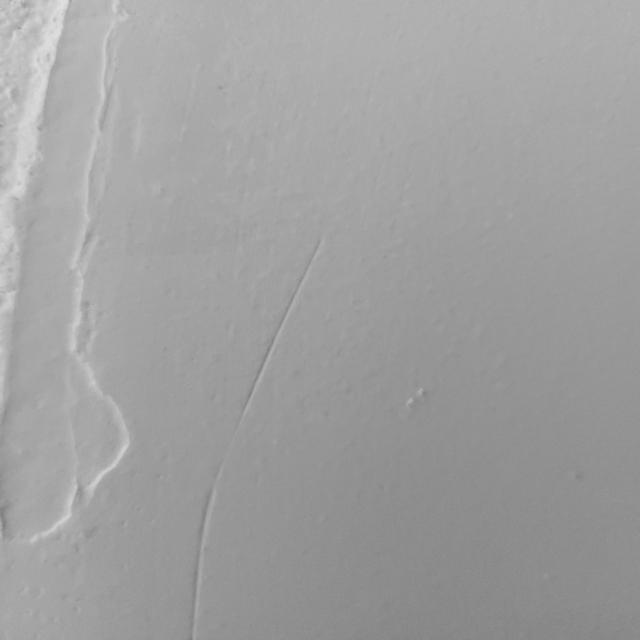rough and patchy surface: (6, 1, 172, 546), (183, 228, 338, 633), (398, 368, 463, 451)
